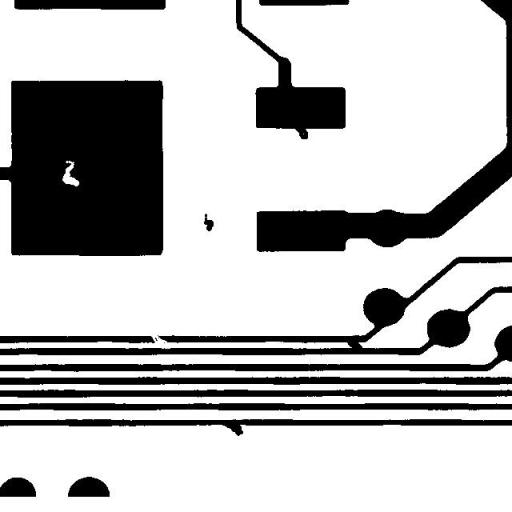copper: (196, 206, 221, 238)
open: (144, 326, 174, 352)
pin-hole: (54, 152, 86, 194)
short: (339, 332, 370, 357)
spur: (214, 414, 250, 443), (286, 118, 316, 146)
